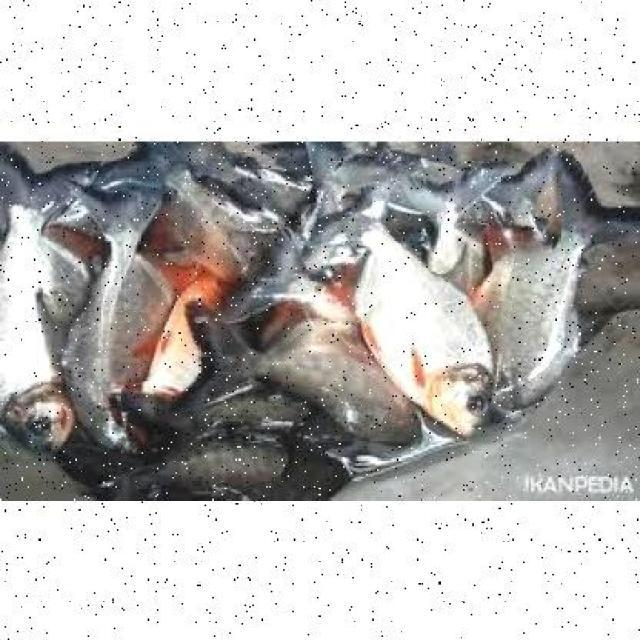ikan-pacu: (179, 312, 427, 445), (354, 219, 494, 436), (500, 210, 589, 398)
